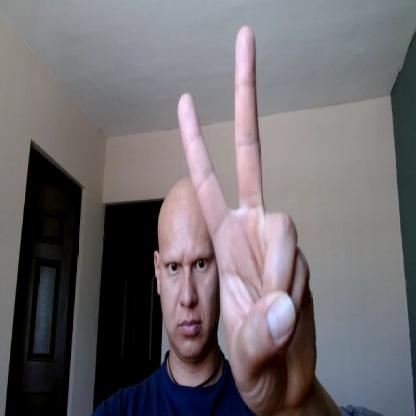V: (177, 22, 316, 405)
